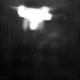plane: (13, 3, 53, 32)
